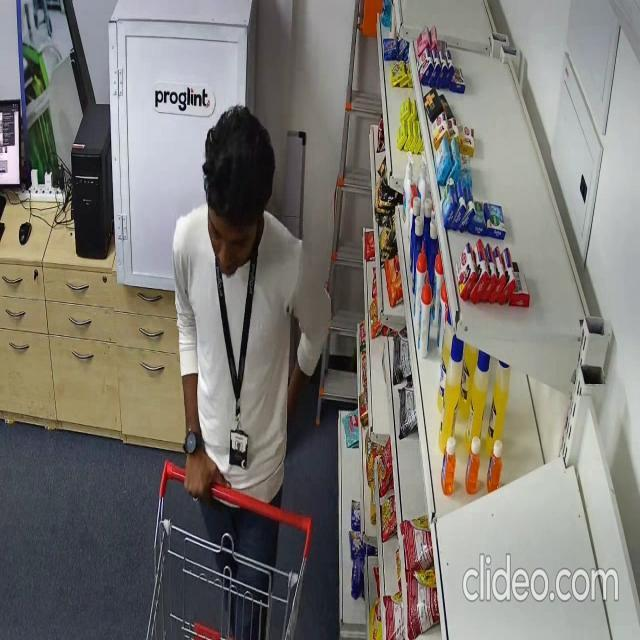Shoplifting: (173, 114, 334, 632)
